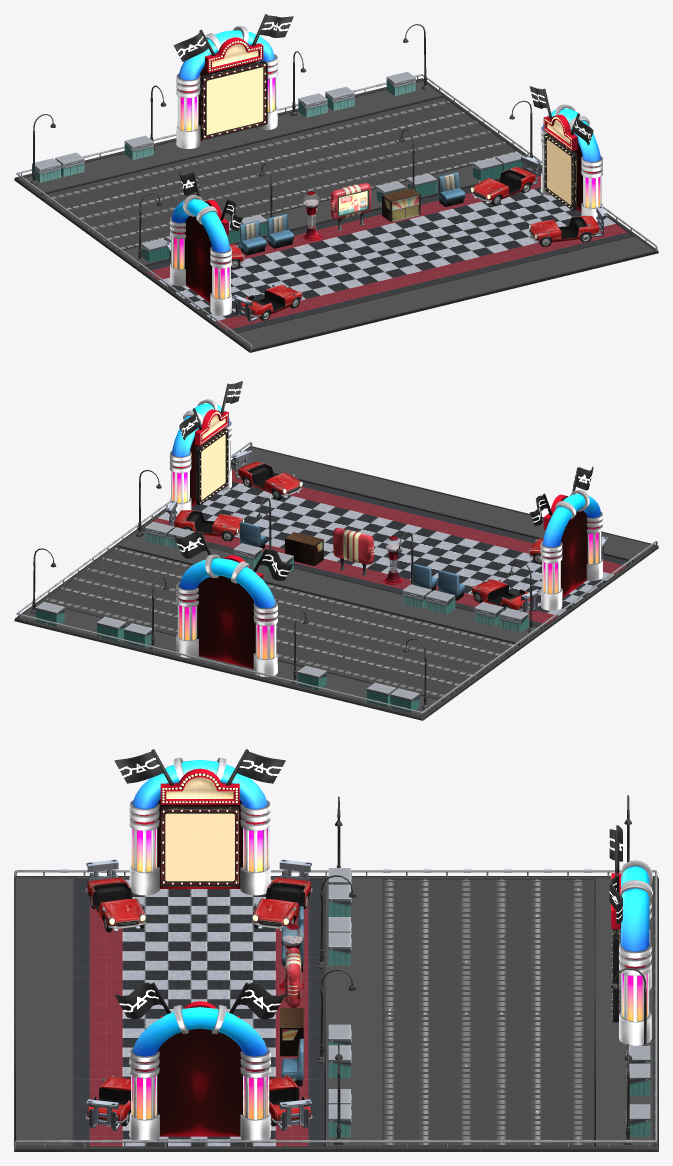
Rendered from obj_draft.gltf.
3 renders of one model, top to bottom at view 1: azimuth 30°, elevation 25°; view 2: azimuth 150°, elevation 25°; view 3: azimuth 270°, elevation 25°, orthographic. The views are drawn at different scales.
Parts seen in each view (by area): view 1: quiz_ex_floor.002, quiz_ex_building_floor.001, podium.001, quiz_ex_floor.009, quiz_ex_floor.008, podium.002, right_car.003, quiz_screens.003, quiz_ex_floor.001, quiz_ex_floor.007, quiz_screens.001, quiz_chairs.002 (+15 smaller); view 2: quiz_ex_floor.002, quiz_ex_building_floor.001, podium.002, podium.001, quiz_ex_floor.009, quiz_ex_floor.001, quiz_ex_floor.007, right_car.003, quiz_ex_floor.008, quiz_screens.001, quiz_ex_outside_screen.001, quiz_chairs.002 (+15 smaller); view 3: quiz_ex_floor.002, quiz_ex_building_floor.001, podium.001, quiz_ex_floor.009, quiz_ex_floor.007, quiz_ex_floor.001, right_car.003, quiz_ex_floor.008, podium.002, quiz_screens.001, quiz_ex_lights.003, quiz_ex_cafe_dresser.001 (+10 smaller).
Part boxes in pixels (bbox=[...]): quiz_ex_floor.002: bbox=[42, 97, 518, 250]; quiz_ex_building_floor.001: bbox=[141, 170, 631, 333]; podium.001: bbox=[169, 86, 602, 315]; quiz_ex_floor.009: bbox=[231, 235, 656, 352]; quiz_ex_floor.008: bbox=[20, 79, 443, 194]; podium.002: bbox=[173, 14, 293, 148]; right_car.003: bbox=[165, 155, 607, 321]; quiz_screens.003: bbox=[200, 61, 267, 139]; quiz_ex_floor.001: bbox=[14, 74, 658, 352]; quiz_ex_floor.007: bbox=[118, 152, 541, 267]; quiz_screens.001: bbox=[544, 133, 576, 210]; quiz_chairs.002: bbox=[239, 172, 465, 255]; quiz_ex_floor.002: bbox=[42, 547, 518, 699]; quiz_ex_building_floor.001: bbox=[141, 464, 630, 627]; podium.002: bbox=[173, 531, 293, 676]; podium.001: bbox=[169, 381, 602, 610]; quiz_ex_floor.009: bbox=[231, 446, 655, 561]; quiz_ex_floor.001: bbox=[14, 442, 658, 720]; quiz_ex_floor.007: bbox=[117, 530, 541, 644]; right_car.003: bbox=[165, 449, 607, 612]; quiz_ex_floor.008: bbox=[19, 602, 443, 715]; quiz_screens.001: bbox=[196, 428, 228, 505]; quiz_ex_outside_screen.001: bbox=[333, 528, 373, 575]; quiz_chairs.002: bbox=[239, 521, 465, 600]; quiz_ex_floor.002: bbox=[384, 879, 593, 1146]; quiz_ex_building_floor.001: bbox=[74, 879, 323, 1146]; podium.001: bbox=[114, 749, 285, 1140]; quiz_ex_floor.009: bbox=[14, 877, 74, 1146]; quiz_ex_floor.007: bbox=[324, 877, 384, 1146]; quiz_ex_floor.001: bbox=[14, 869, 658, 1151]; right_car.003: bbox=[85, 859, 312, 1130]; quiz_ex_floor.008: bbox=[594, 877, 654, 1146]; podium.002: bbox=[609, 825, 652, 1045]; quiz_screens.001: bbox=[161, 806, 239, 886]; quiz_ex_lights.003: bbox=[317, 796, 356, 1144]; quiz_ex_cafe_dresser.001: bbox=[280, 1008, 303, 1056].
Size of the model in its own units: 16 by 4.47 by 16.
Materials: 21 (19 with a texture image).
